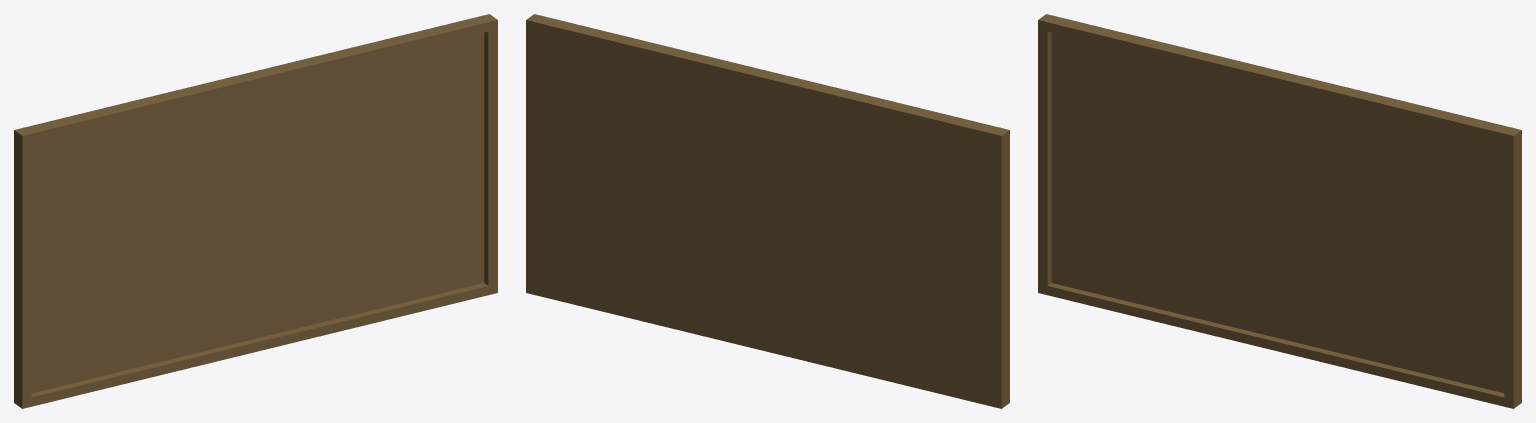
The model's file is Small Painting.fbx.
3 views of the same model, side by side, from view 1: azimuth 30°, elevation 25°; view 2: azimuth 150°, elevation 25°; view 3: azimuth 330°, elevation 25° (orthographic).
Visible parts, largest first — view 1: Small Painting; view 2: Small Painting; view 3: Small Painting.
Part boxes in pixels (x1,y1,x2,y2): Small Painting: (14,14,497,408); Small Painting: (526,14,1009,408); Small Painting: (1038,14,1521,408).
Bounding box in the file's own units: 380 × 209 × 11.37.
